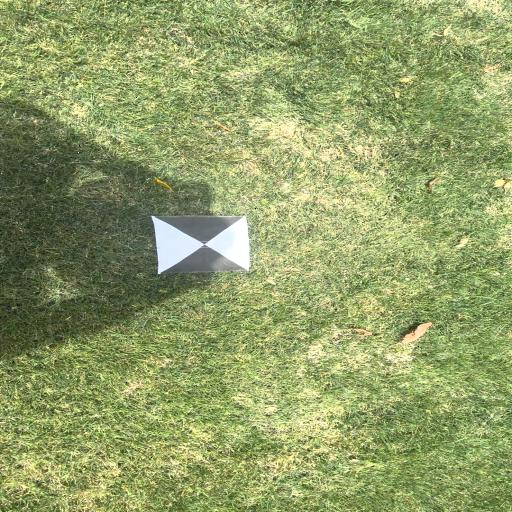target: (152, 216, 247, 273)
